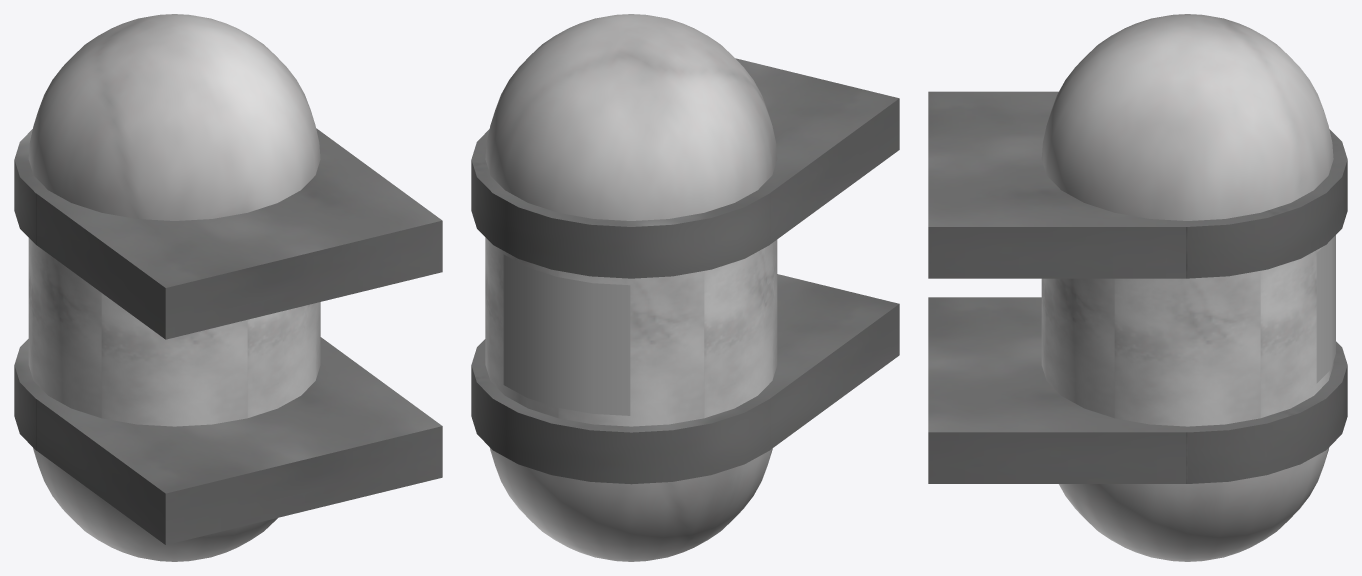
Rendered from FLM100.FBX.
3 renders of one model, left to right at view 1: azimuth 30°, elevation 25°; view 2: azimuth 150°, elevation 25°; view 3: azimuth 270°, elevation 25°, orthographic.
Parts seen in each view (by area): view 1: D3H3Tank001, Mounting Bracket 001, Mounting Bracket 002; view 2: D3H3Tank001, Mounting Bracket 001, Mounting Bracket 002, logoPanel001; view 3: D3H3Tank001, Mounting Bracket 001, Mounting Bracket 002, logoPanel001.
Boxes of the visible parts, x1,y1,x2,y2 form: D3H3Tank001: (28, 14, 320, 561); Mounting Bracket 001: (14, 128, 442, 339); Mounting Bracket 002: (14, 337, 442, 544); D3H3Tank001: (485, 14, 777, 561); Mounting Bracket 001: (471, 58, 899, 278); Mounting Bracket 002: (471, 274, 899, 484); logoPanel001: (503, 254, 630, 415); D3H3Tank001: (1041, 14, 1333, 561); Mounting Bracket 001: (928, 91, 1347, 278); Mounting Bracket 002: (928, 297, 1347, 483); logoPanel001: (1316, 235, 1335, 383).
Size of what is drawn, in the model's own units: 0.5541 by 0.726 by 0.995.
